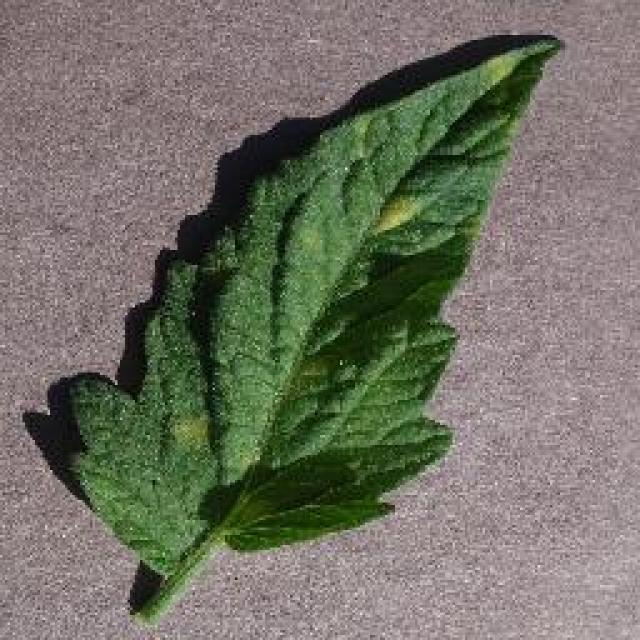Tomato mold leaf: (66, 35, 564, 577)
